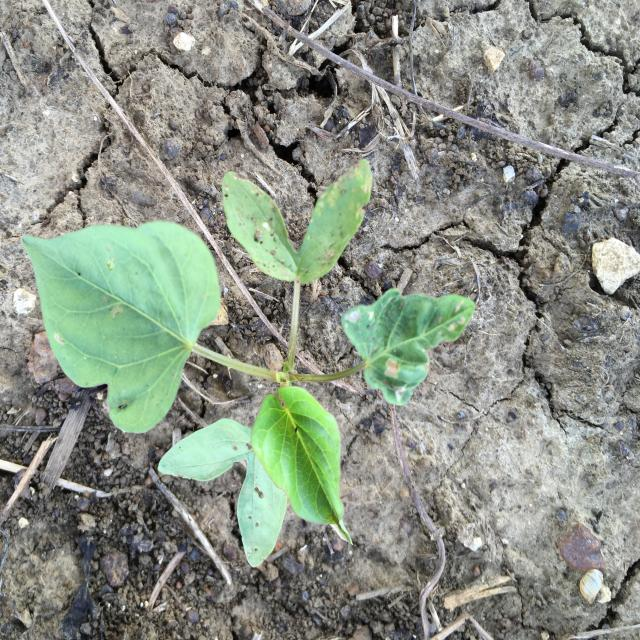MorningGlory: (22, 159, 476, 568)
